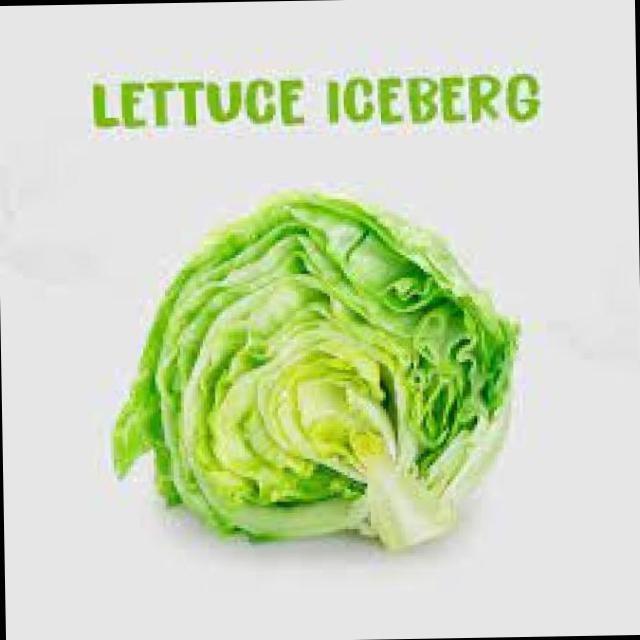Lettuce-Ready-to-Harvest: (113, 193, 518, 548)
